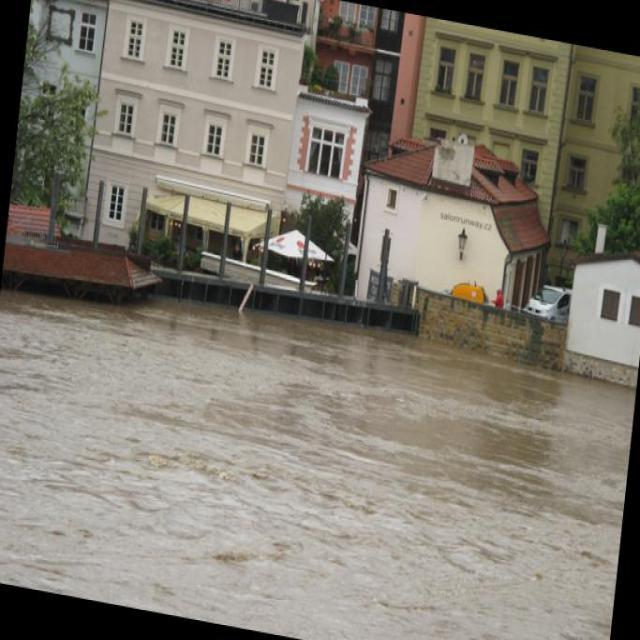flood: (0, 249, 639, 639)
